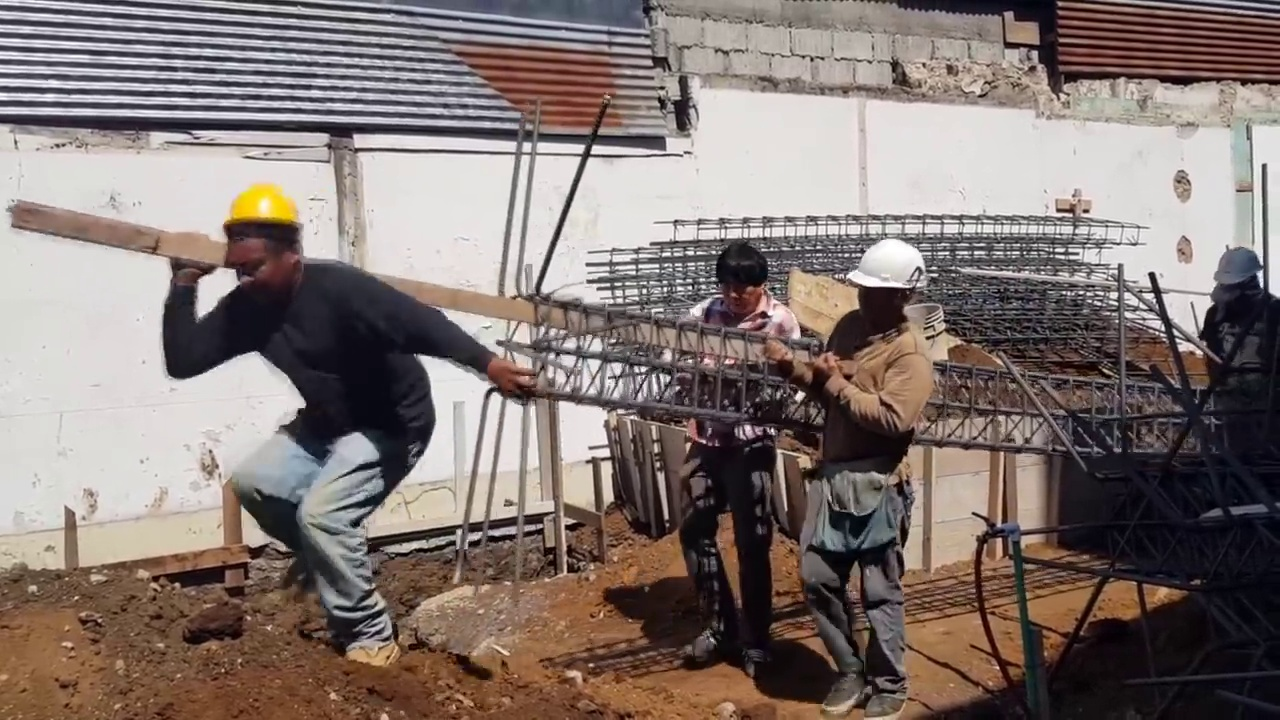helmet: (211, 177, 308, 236), (850, 234, 934, 292), (1215, 242, 1266, 287)
helmet-off: (717, 243, 769, 316)
helmet-on: (214, 182, 303, 307), (847, 228, 937, 340), (1217, 244, 1268, 314)
person: (176, 162, 531, 675), (778, 229, 947, 720), (675, 239, 792, 691), (1201, 246, 1273, 441)
